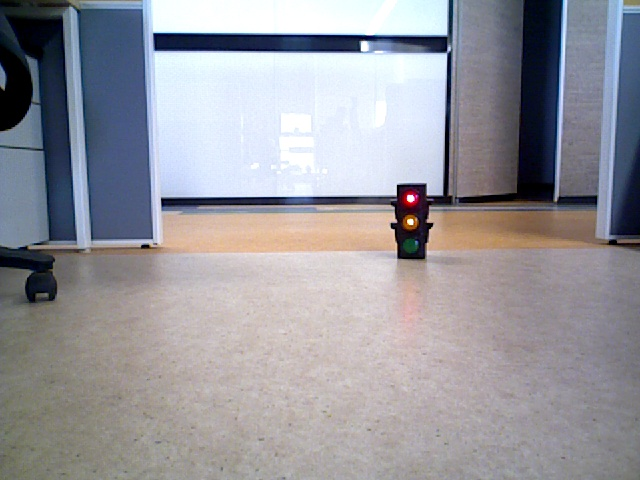red: (394, 187, 424, 257)
